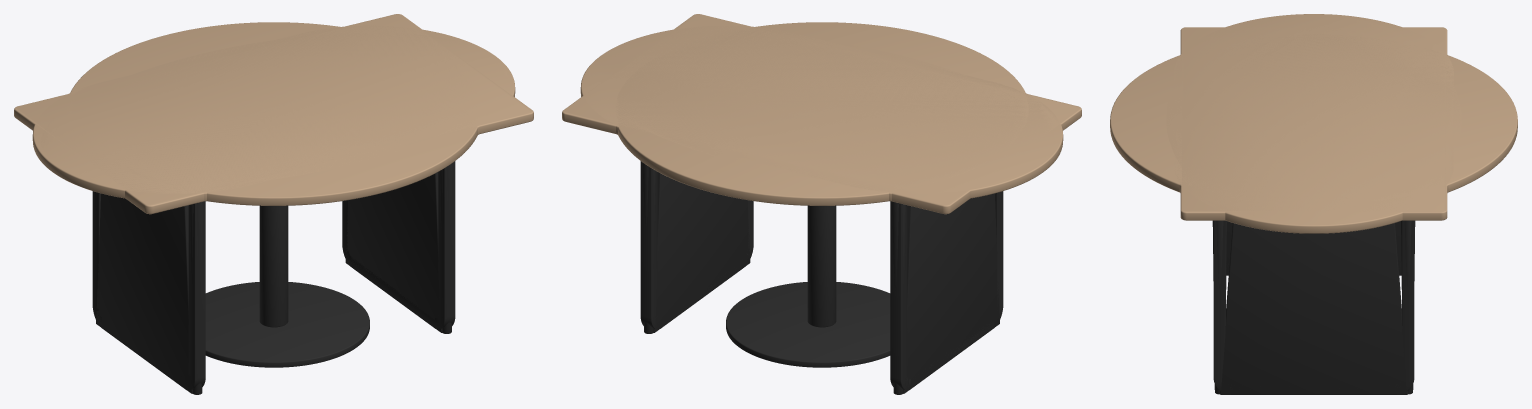
The model's file is table_configurator.glb.
3 renders of one model, left to right at view 1: azimuth 30°, elevation 25°; view 2: azimuth 150°, elevation 25°; view 3: azimuth 270°, elevation 25°, orthographic. The views are drawn at different scales.
Visible parts, largest first — view 1: Top_Capsule, Top_Rectangle, Legs_Panel, Top_Round, Legs_Pedestal, Legs_Sled, Top_Oval, Legs_Four; view 2: Top_Capsule, Top_Round, Top_Rectangle, Legs_Panel, Legs_Pedestal, Legs_Sled, Top_Oval, Legs_Four; view 3: Top_Capsule, Legs_Panel, Top_Oval, Top_Round, Top_Rectangle, Legs_Sled, Legs_Four.
Boxes of the visible parts, x1,y1,x2,y2 form: Top_Capsule: [32, 25, 515, 201]; Top_Rectangle: [14, 14, 533, 214]; Legs_Panel: [96, 172, 442, 393]; Top_Round: [67, 22, 477, 205]; Legs_Pedestal: [205, 205, 369, 367]; Legs_Sled: [92, 161, 455, 390]; Top_Oval: [40, 33, 507, 186]; Legs_Four: [94, 163, 452, 394]; Top_Capsule: [580, 25, 1063, 201]; Top_Round: [615, 22, 1028, 205]; Top_Rectangle: [562, 14, 1081, 214]; Legs_Panel: [653, 172, 999, 393]; Legs_Pedestal: [726, 205, 890, 367]; Legs_Sled: [640, 161, 1003, 390]; Top_Oval: [588, 32, 1054, 186]; Legs_Four: [643, 163, 1001, 394]; Top_Capsule: [1174, 14, 1453, 233]; Legs_Panel: [1220, 221, 1407, 394]; Top_Oval: [1166, 14, 1461, 224]; Top_Round: [1110, 34, 1517, 202]; Top_Rectangle: [1180, 27, 1447, 220]; Legs_Sled: [1213, 220, 1414, 394]; Legs_Four: [1212, 220, 1415, 394].
Bounding box in the file's own units: 1.6 × 0.75 × 1.3.
